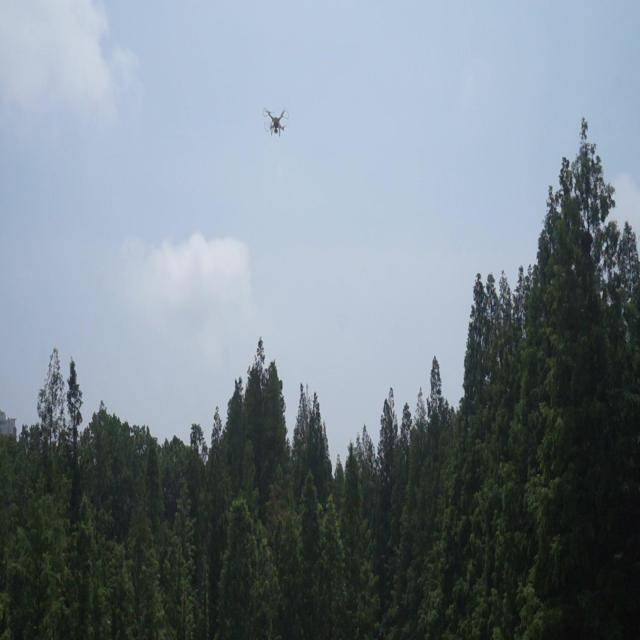drone: (260, 102, 289, 138)
